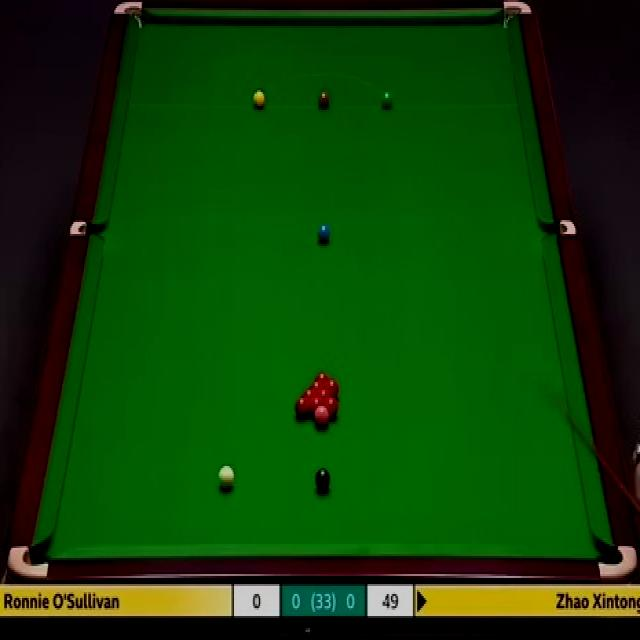black-ball: (315, 467, 331, 490)
blue-ball: (317, 225, 331, 242)
brown-ball: (317, 92, 330, 109)
green-ball: (382, 88, 396, 112)
pink-ball: (313, 404, 330, 429)
red-ball: (323, 396, 339, 419), (308, 396, 324, 418), (295, 396, 310, 417), (324, 379, 340, 398), (302, 388, 316, 401), (310, 380, 324, 393), (316, 372, 329, 383)
white-ball: (218, 464, 235, 493)
yellow-ball: (252, 89, 266, 110)
